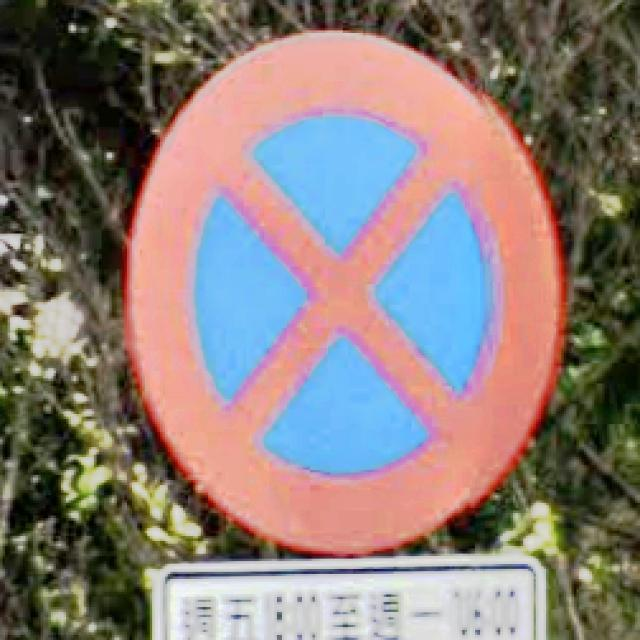nopark: (124, 30, 569, 559)
